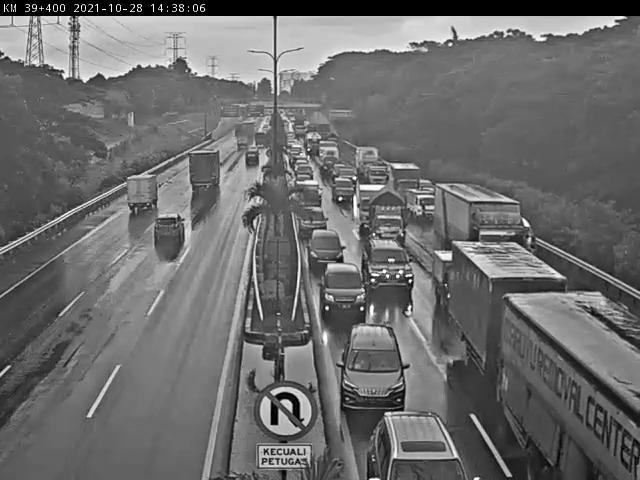big truck: (492, 289, 640, 480), (454, 241, 564, 362), (434, 181, 541, 262), (123, 168, 174, 216), (184, 152, 226, 199), (406, 188, 449, 224)
car: (360, 405, 479, 480), (342, 316, 405, 422), (360, 239, 415, 302), (318, 259, 366, 327), (310, 225, 346, 275), (150, 208, 188, 248), (298, 205, 329, 240), (299, 185, 324, 211), (332, 178, 353, 205), (245, 143, 263, 170)
small truck: (430, 252, 479, 306), (373, 193, 408, 241)
